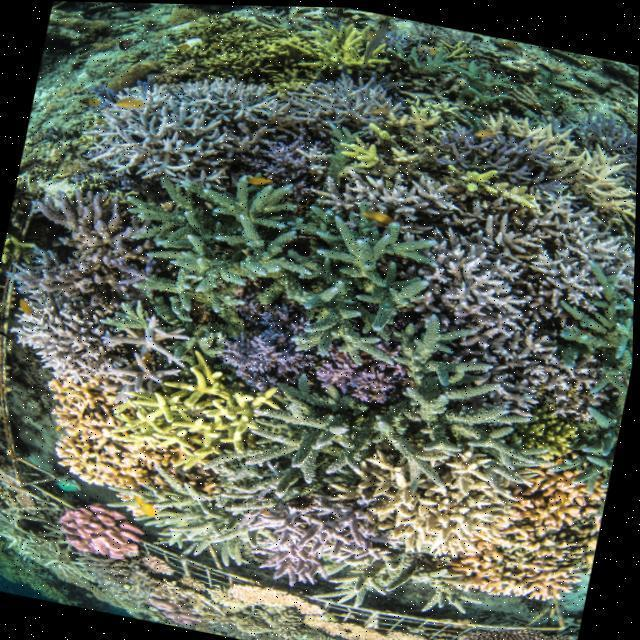Healthy Coral: (251, 299, 544, 586), (79, 147, 427, 363), (364, 76, 639, 226), (100, 336, 292, 492), (140, 2, 392, 118), (209, 563, 575, 640), (404, 206, 568, 360), (60, 82, 230, 188)
